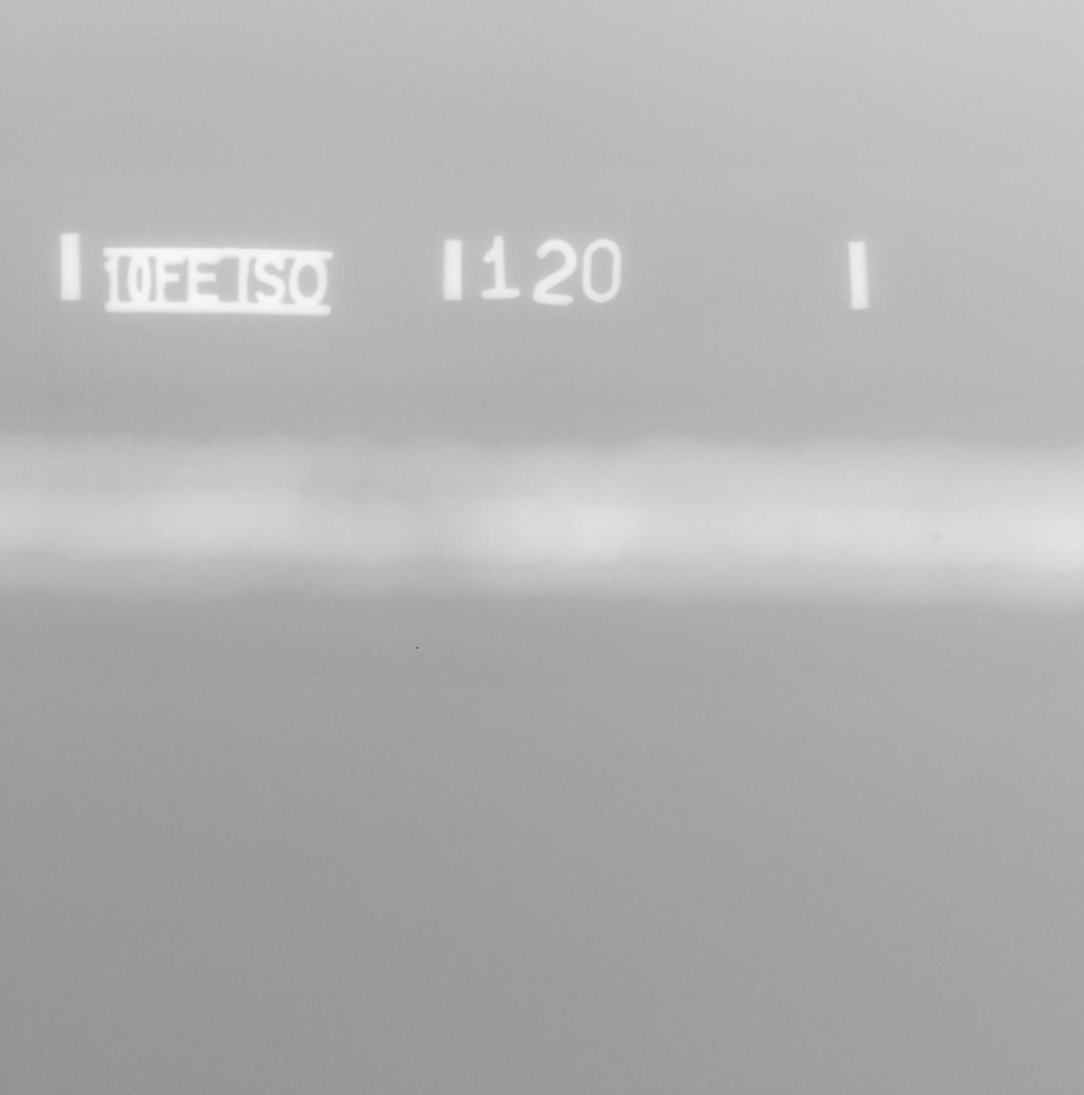Pore/Porosity: (930, 532, 938, 539)
